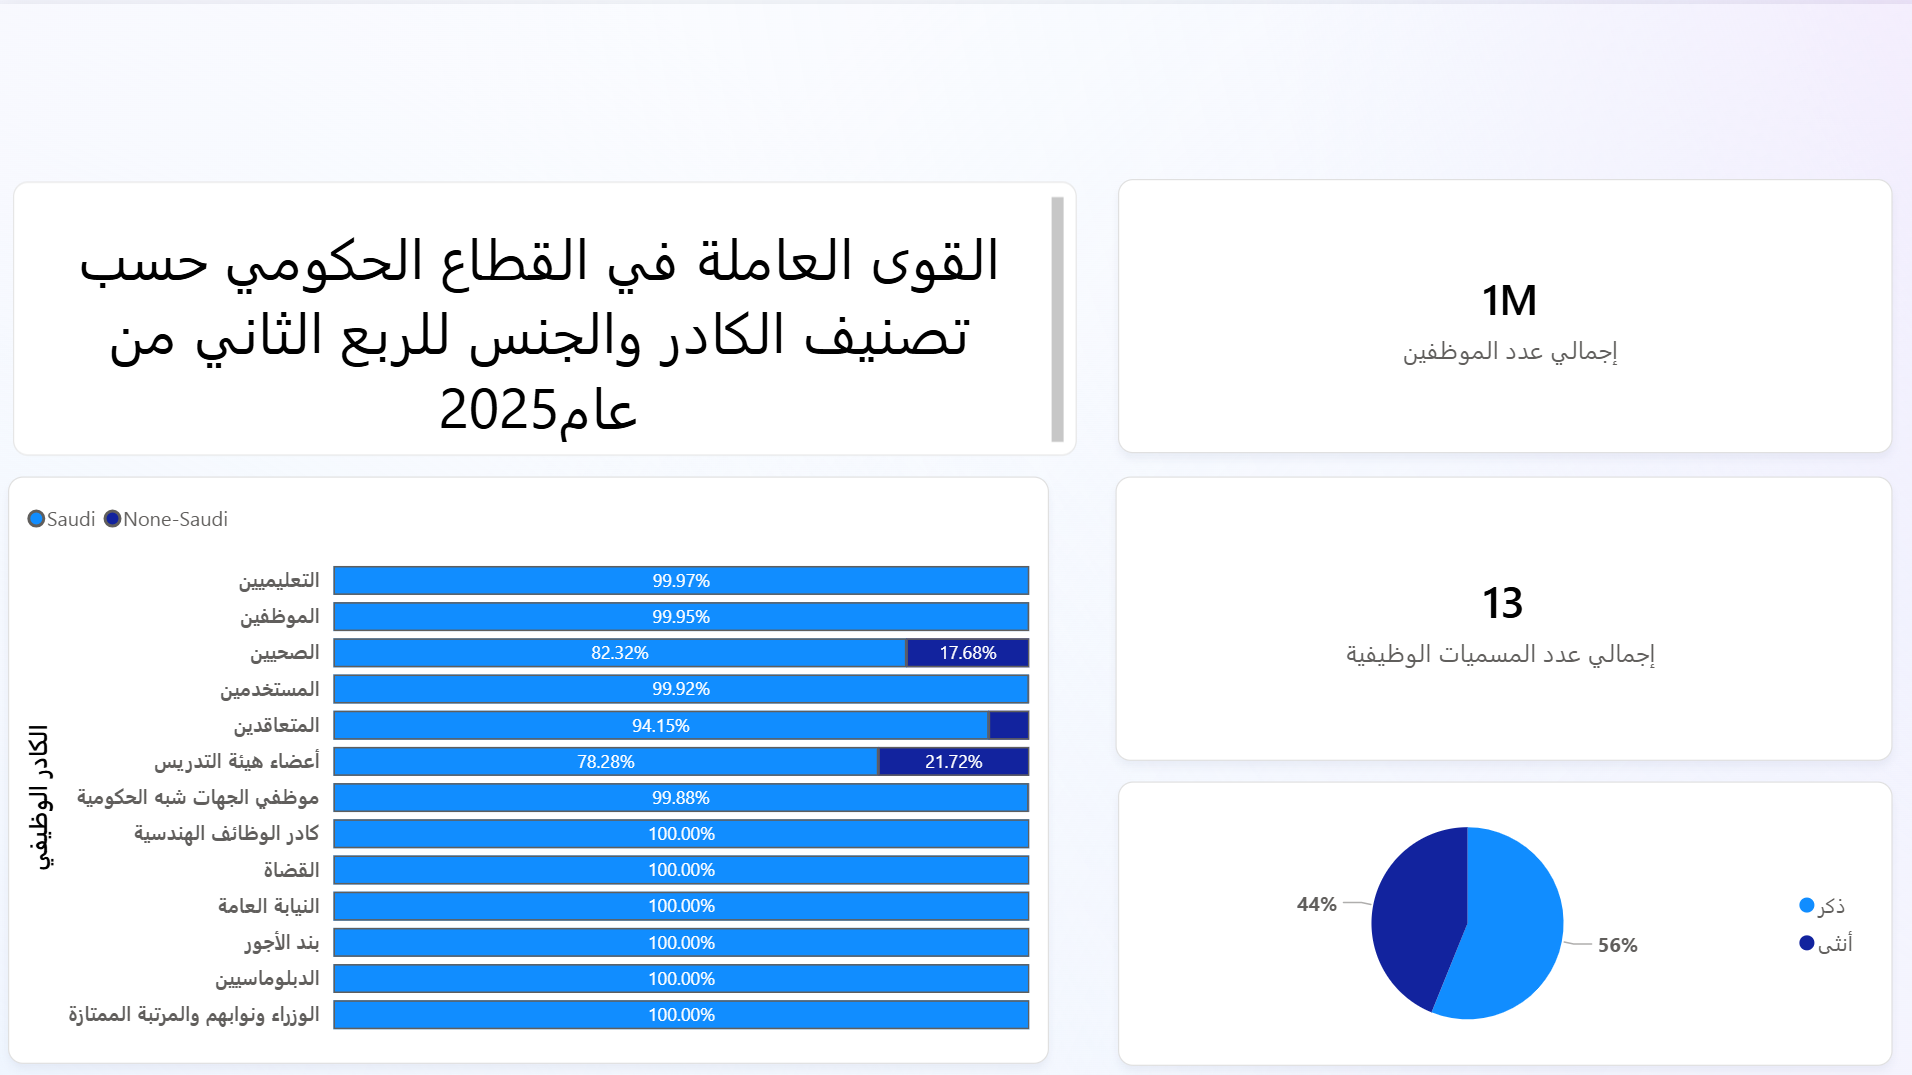

The dashboard page shown, as its layout file describes it:
{"tool":"powerbi","page":{"name":"تصنيف القوى العاملة","canvas":[1280,720],"ordinal":0},"visuals":[{"type":"card","fields":{"Values":["Sum(البيانات.الإجمالي الكلي)"]},"box":[0,172.5,442.5,187.5],"z":0},{"type":"card","fields":{"Values":["CountNonNull(البيانات.الكادر الوظيفي)"]},"box":[442.5,172.5,397.5,187.5],"z":1000},{"type":"barChart","fields":{"Category":["البيانات.الكادر الوظيفي"],"Y":["Sum(البيانات.الإجمالي الكلي)"]},"box":[0,360,640,360],"z":2000},{"type":"pieChart","fields":{"Y":["Table2.Total Male","Table2.Total Female"]},"box":[840,172.5,440,205],"z":3000},{"type":"hundredPercentStackedColumnChart","fields":{"Y":["Table2.Total Saudi","Table2.Total None-Saudi"],"Category":["البيانات.الكادر الوظيفي"]},"box":[640,360,640,360],"z":3001},{"type":"textbox","box":[0,0,1280,175],"z":3002}]}

Visuals, with their boxes in screenshot pixels (x1, y1, x2, y2), scaled from the page's 1280x720 canvas onto the 1912x1075 screenshot:
card - Sum(البيانات.الإجمالي الكلي): bbox=(0, 258, 661, 538)
card - CountNonNull(البيانات.الكادر الوظيفي): bbox=(661, 258, 1255, 538)
barChart - البيانات.الكادر الوظيفي x Sum(البيانات.الإجمالي الكلي): bbox=(0, 538, 956, 1074)
pieChart - Table2.Total Male x Table2.Total Female: bbox=(1255, 258, 1911, 564)
hundredPercentStackedColumnChart - Table2.Total Saudi x Table2.Total None-Saudi: bbox=(956, 538, 1911, 1074)
textbox: bbox=(0, 0, 1911, 261)
